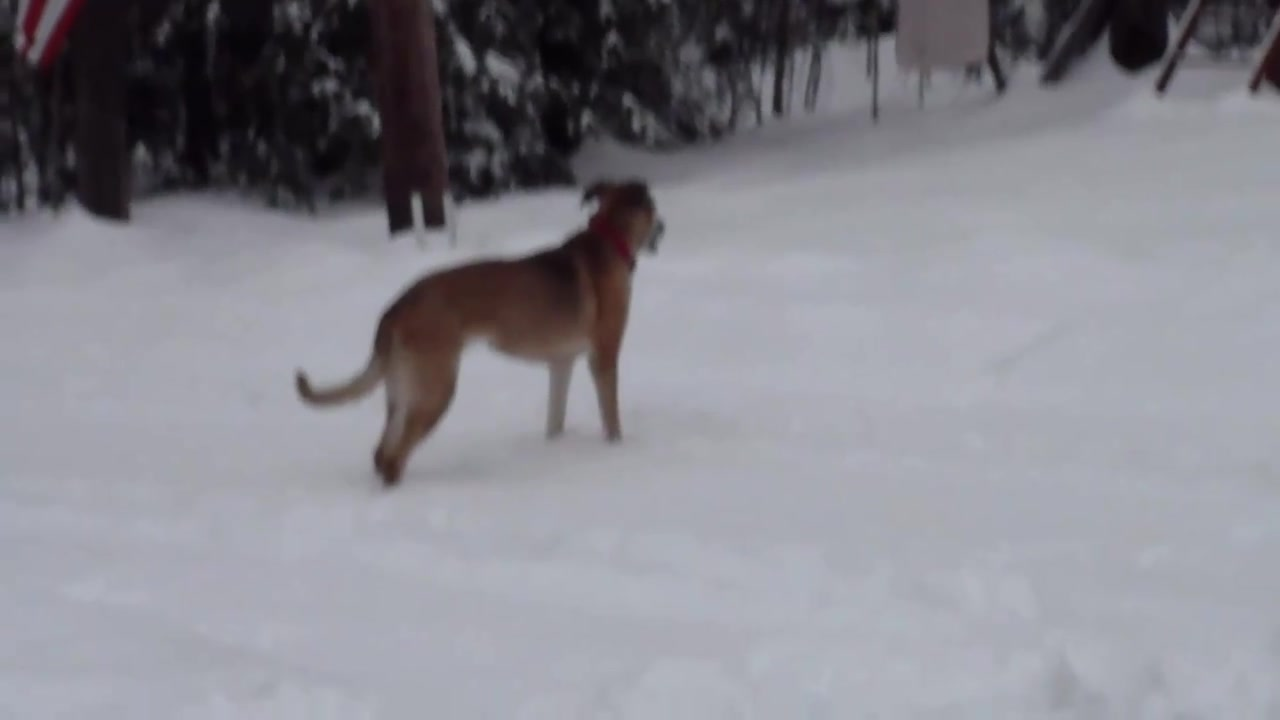dog: (295, 171, 669, 492)
